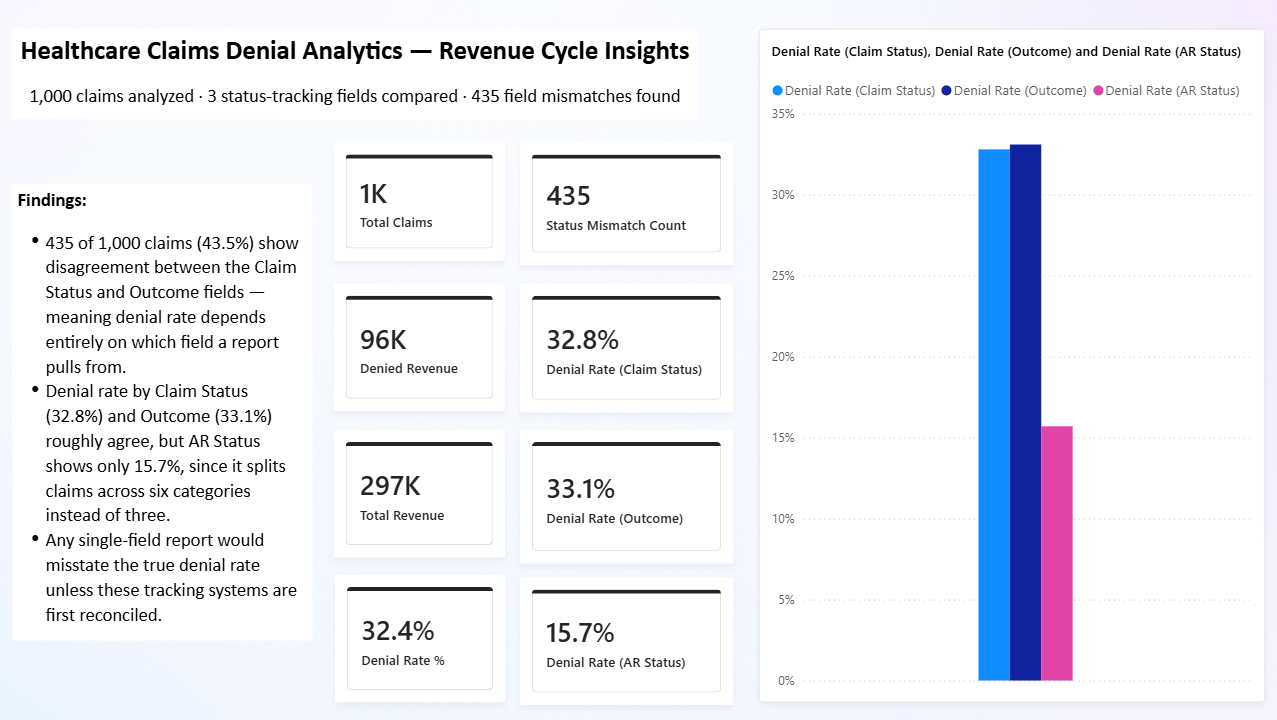

The dashboard page shown, as its layout file describes it:
{"tool":"powerbi","page":{"name":"Page 1","canvas":[1280,720],"ordinal":0},"visuals":[{"type":"cardVisual","fields":{"Data":["Claims.Total Claims"]},"box":[333.8,142.5,171.2,118.8],"z":0},{"type":"cardVisual","fields":{"Data":["Claims.Denied Revenue"]},"box":[333.8,283.8,171.2,127.5],"z":1000},{"type":"cardVisual","fields":{"Data":["Claims.Total Revenue"]},"box":[333.8,430,171.2,127.5],"z":2000},{"type":"cardVisual","fields":{"Data":["Claims.Denial Rate %"]},"box":[335,575,170,127.5],"z":3000},{"type":"cardVisual","fields":{"Data":["Claims.Status Mismatch Count"]},"box":[520,142.5,213.8,122.5],"z":4000},{"type":"cardVisual","fields":{"Data":["Claims.Denial Rate (Claim Status)"]},"box":[520,283.8,213.8,128.8],"z":5000},{"type":"cardVisual","fields":{"Data":["Claims.Denial Rate (Outcome)"]},"box":[520,430,213.8,133.8],"z":6000},{"type":"cardVisual","fields":{"Data":["Claims.Denial Rate (AR Status)"]},"box":[520,577.5,213.8,127.5],"z":7000},{"type":"clusteredColumnChart","fields":{"Y":["Claims.Denial Rate (Claim Status)","Claims.Denial Rate (Outcome)","Claims.Denial Rate (AR Status)"]},"box":[758.8,28.8,506.2,673.8],"z":8000},{"type":"textbox","box":[12.5,183.8,300,457],"z":9000},{"type":"textbox","box":[12.8,29.1,684.9,90.7],"z":10000}]}

Visuals, with their boxes in screenshot pixels (x1, y1, x2, y2), scaled from the page's 1280x720 canvas onto the 1277x720 screenshot:
cardVisual - Claims.Total Claims: left=333, top=142, right=504, bottom=261
cardVisual - Claims.Denied Revenue: left=333, top=284, right=504, bottom=411
cardVisual - Claims.Total Revenue: left=333, top=430, right=504, bottom=558
cardVisual - Claims.Denial Rate %: left=334, top=575, right=504, bottom=702
cardVisual - Claims.Status Mismatch Count: left=519, top=142, right=732, bottom=265
cardVisual - Claims.Denial Rate (Claim Status): left=519, top=284, right=732, bottom=413
cardVisual - Claims.Denial Rate (Outcome): left=519, top=430, right=732, bottom=564
cardVisual - Claims.Denial Rate (AR Status): left=519, top=578, right=732, bottom=705
clusteredColumnChart - Claims.Denial Rate (Claim Status) x Claims.Denial Rate (Outcome): left=757, top=29, right=1262, bottom=703
textbox: left=12, top=184, right=312, bottom=641
textbox: left=13, top=29, right=696, bottom=120
